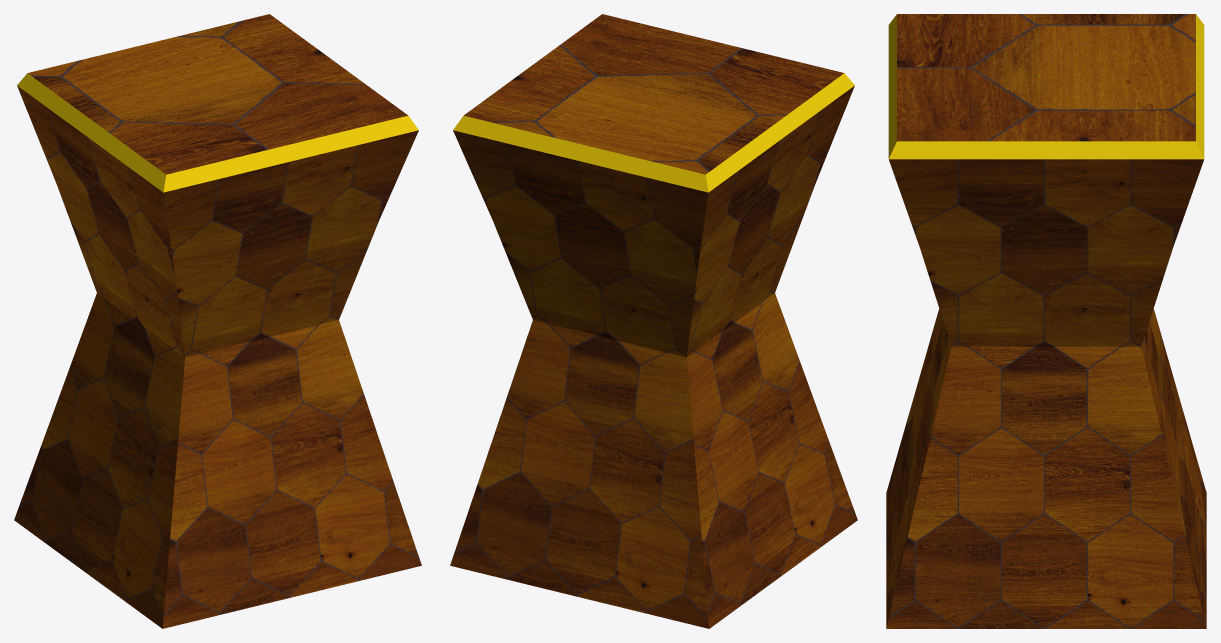
The model's file is Counter.fbx.
3 renders of one model, left to right at view 1: azimuth 30°, elevation 25°; view 2: azimuth 150°, elevation 25°; view 3: azimuth 270°, elevation 25°, orthographic. The views are drawn at different scales.
Visible parts, largest first — view 1: pCube1; view 2: pCube1; view 3: pCube1.
Boxes of the visible parts, box(x1,y1,x2,y2) form: pCube1: box(14, 14, 421, 628); pCube1: box(450, 14, 857, 628); pCube1: box(886, 14, 1206, 628).
Bounding box in the file's own units: 4.01 × 6.63 × 3.98.
Materials: 2 (1 with a texture image).
